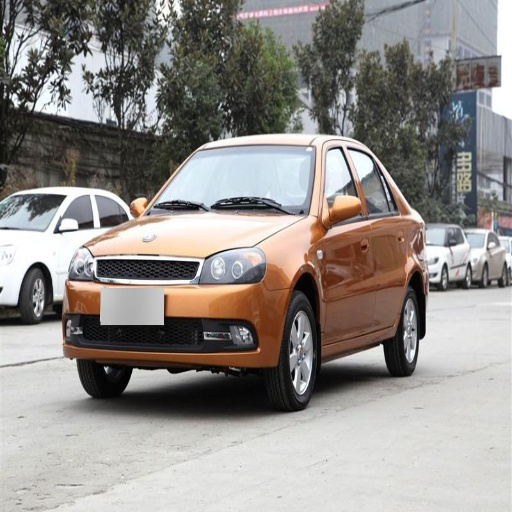front_bumper: (64, 251, 290, 367)
front_glass: (150, 150, 314, 214)
front_left_door: (322, 142, 375, 341)
